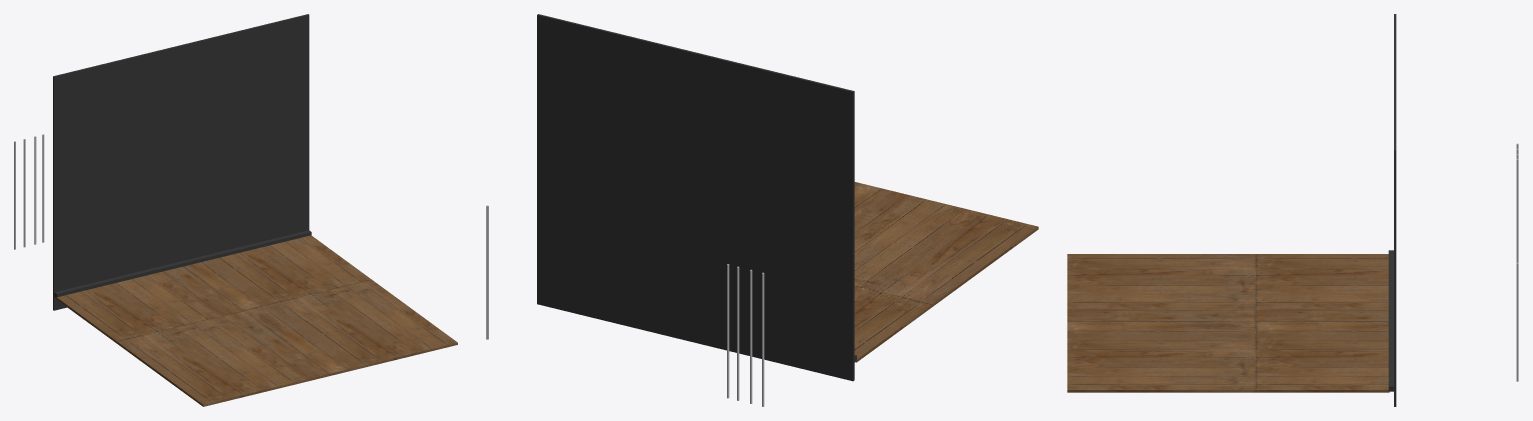
The model's file is platform.glb.
The picture shows the model from 3 angles, left to right: view 1: azimuth 30°, elevation 25°; view 2: azimuth 150°, elevation 25°; view 3: azimuth 270°, elevation 25°; orthographic projection. The views are drawn at different scales.
Parts seen in each view (by area): view 1: Cube, pCube1, pCube9; view 2: Cube, pCube1; view 3: pCube1, Cube, pCube9.
Boxes of the visible parts, x1,y1,x2,y2 form: Cube: [53, 14, 309, 310]; pCube1: [56, 235, 457, 406]; pCube9: [54, 230, 311, 297]; Cube: [537, 14, 854, 381]; pCube1: [854, 182, 1038, 362]; pCube1: [1067, 254, 1389, 392]; Cube: [1394, 14, 1396, 406]; pCube9: [1388, 250, 1393, 391].
Bounding box in the file's own units: 4.39 × 3.84 × 6.13.
Materials: 3 (1 with a texture image).
